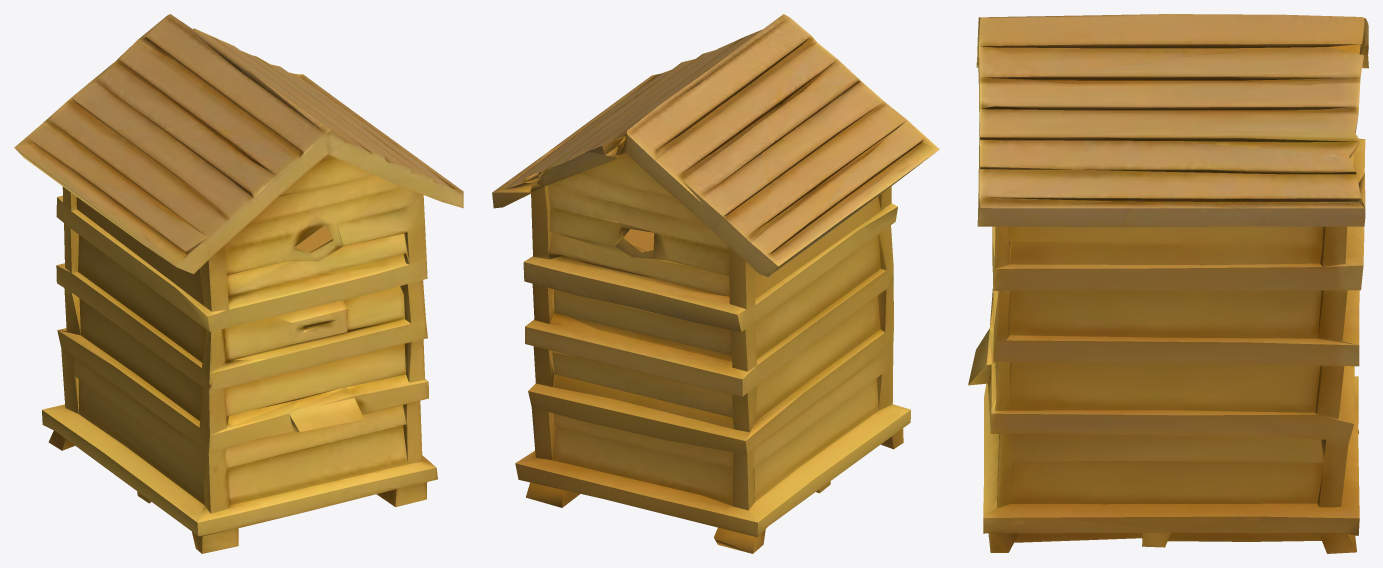
File: beehive.glb
The picture shows the model from 3 angles, left to right: view 1: azimuth 30°, elevation 25°; view 2: azimuth 150°, elevation 25°; view 3: azimuth 270°, elevation 25°; orthographic projection. The views are drawn at different scales.
Visible parts, largest first — view 1: model; view 2: model; view 3: model.
Part boxes in pixels (x1=…): model: x1=14, y1=14, x2=463, y2=553; model: x1=492, y1=14, x2=939, y2=553; model: x1=968, y1=14, x2=1368, y2=553.
Bounding box in the file's own units: 1.43 × 1.9 × 1.44.
1 material, 1 textured.
